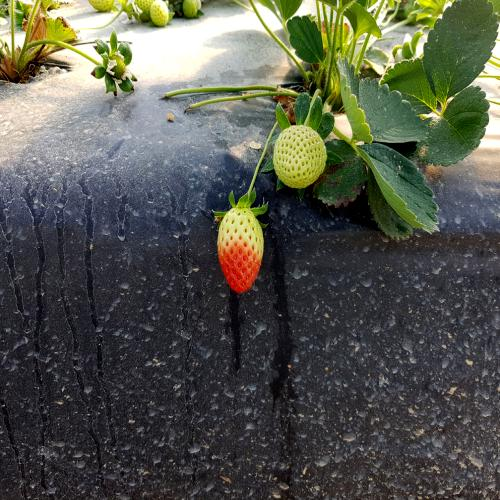partially-ripe: (209, 196, 269, 305)
